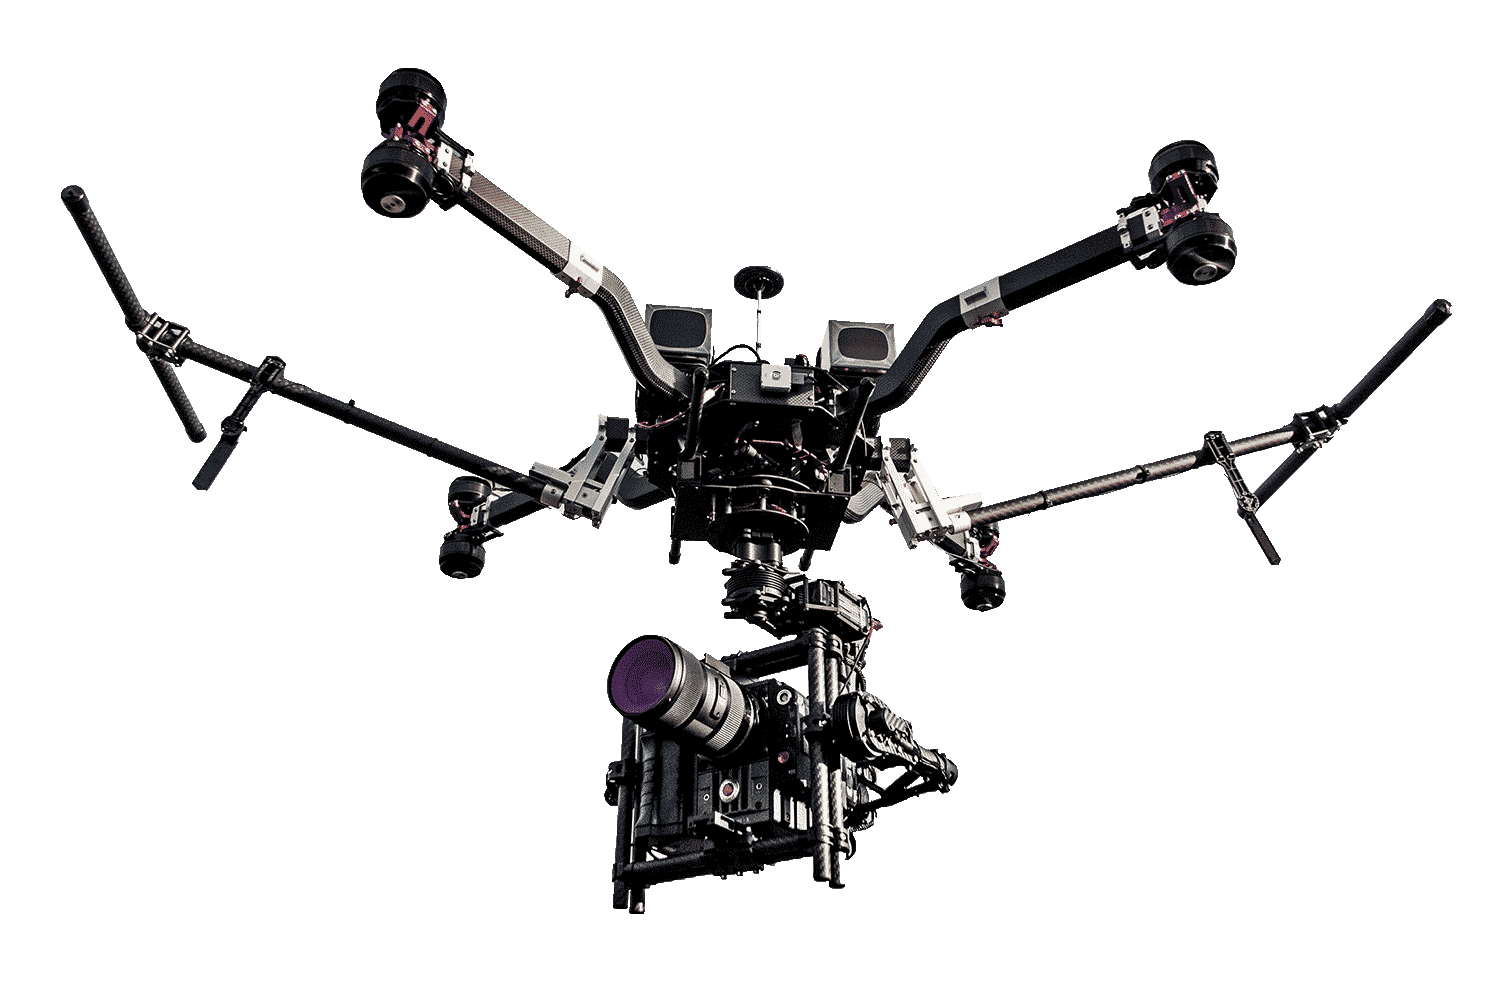drone: (53, 59, 1465, 924)
